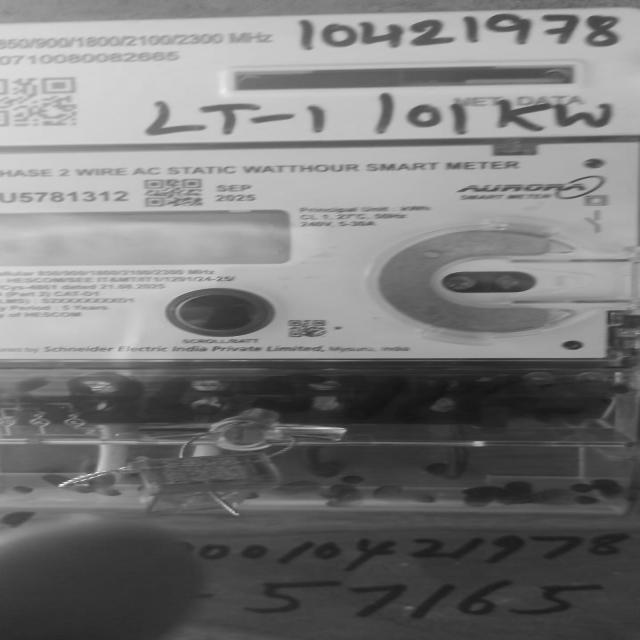meter: (0, 35, 633, 359)
